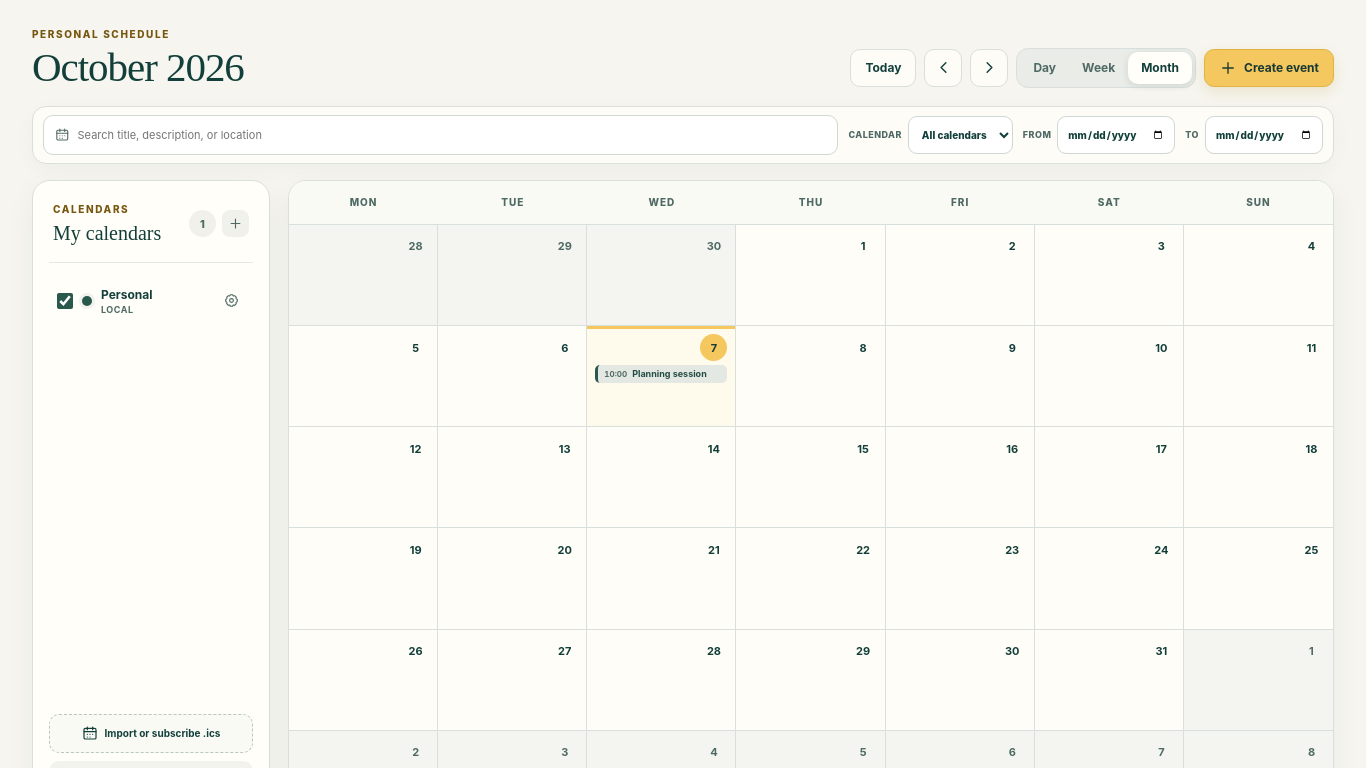
Test: CalendarPage › persists calendar visibility and removes hidden events from the grid
Expected: the text "Planning session" is shown, 632,369 -> 707,379
Click the checkbox named "Show Personal".
click(65, 301)  # box 57,293 -> 73,309
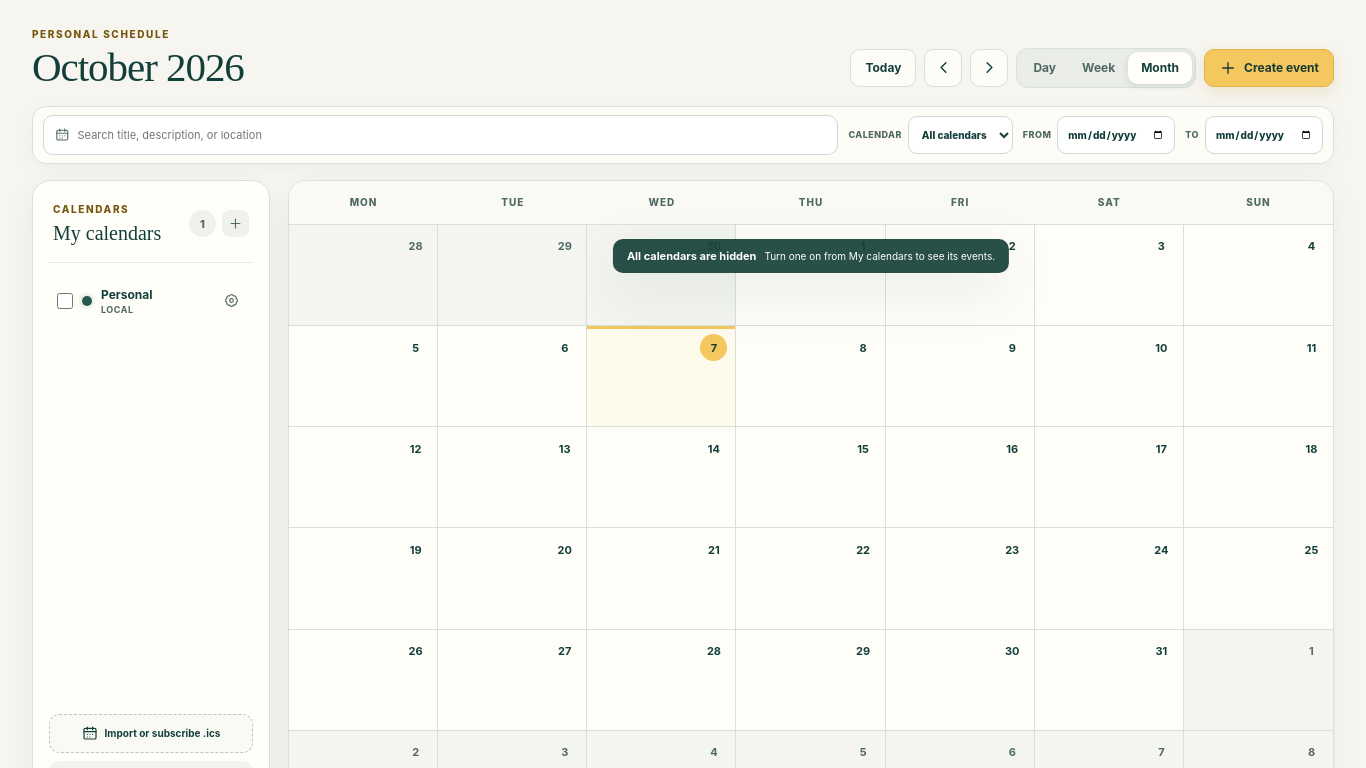
Now the button "Planning session" is gone
